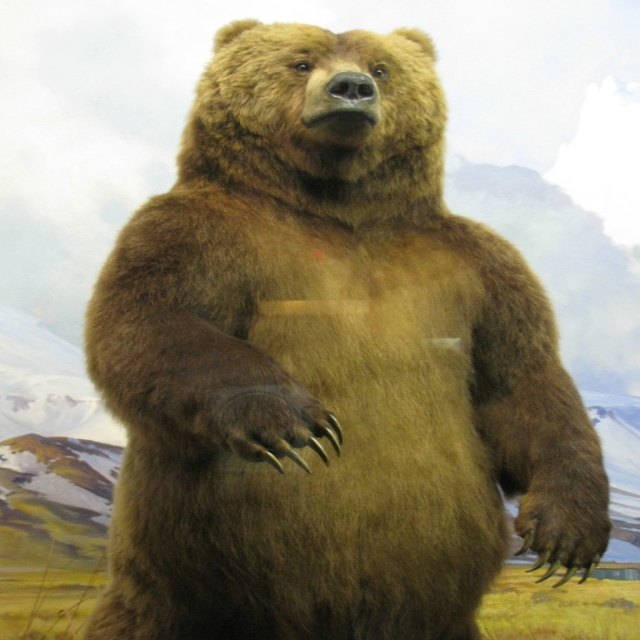Brown bear: (81, 14, 614, 640)
